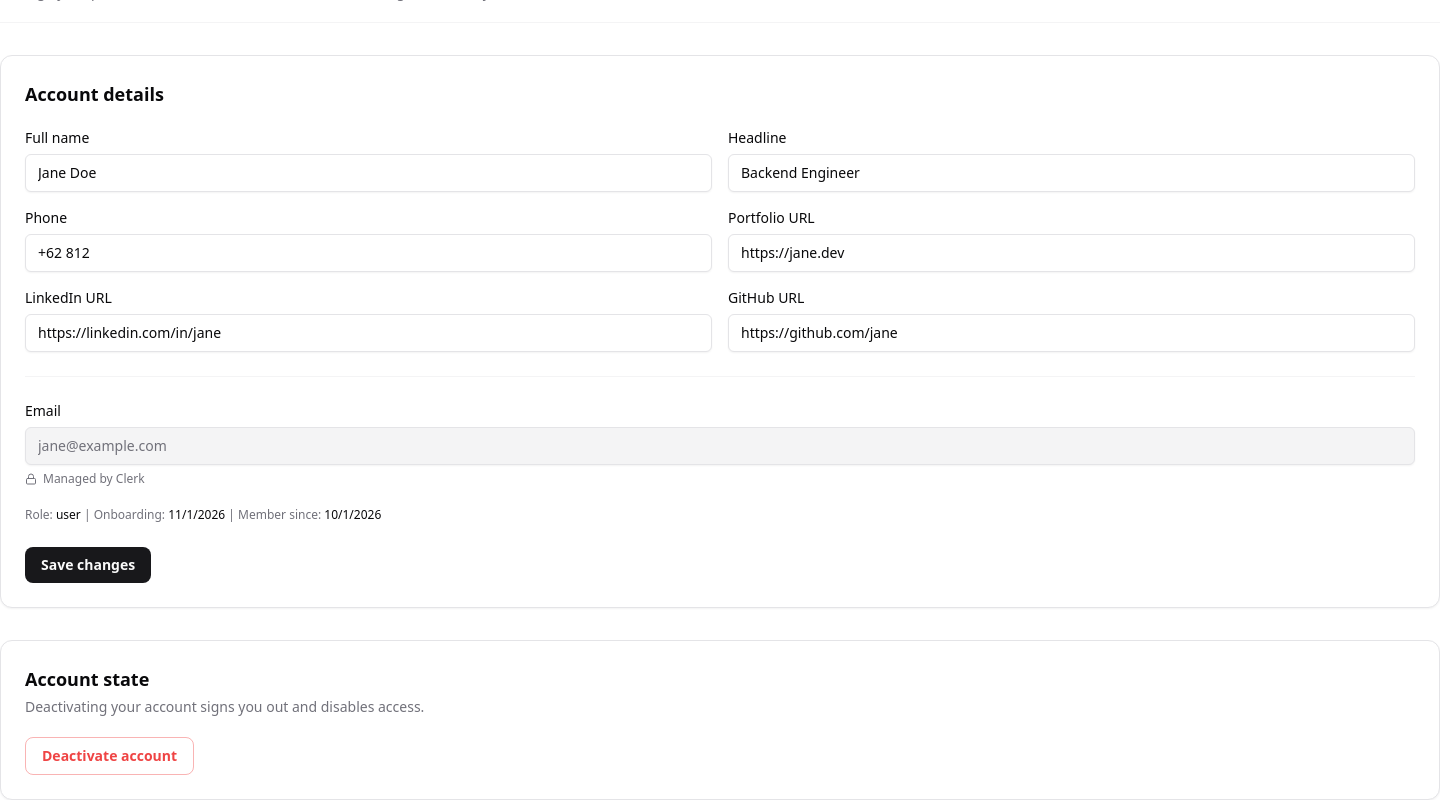
Test case: AccountForm › only deactivates on Confirm, not Cancel, and focuses Cancel on open
The image size is (1440, 800).
Later steps or results of the test are not shown.
(page scrolled)
Step 1. Click the button "Deactivate account" → click(110, 756), box [25,737,194,775]
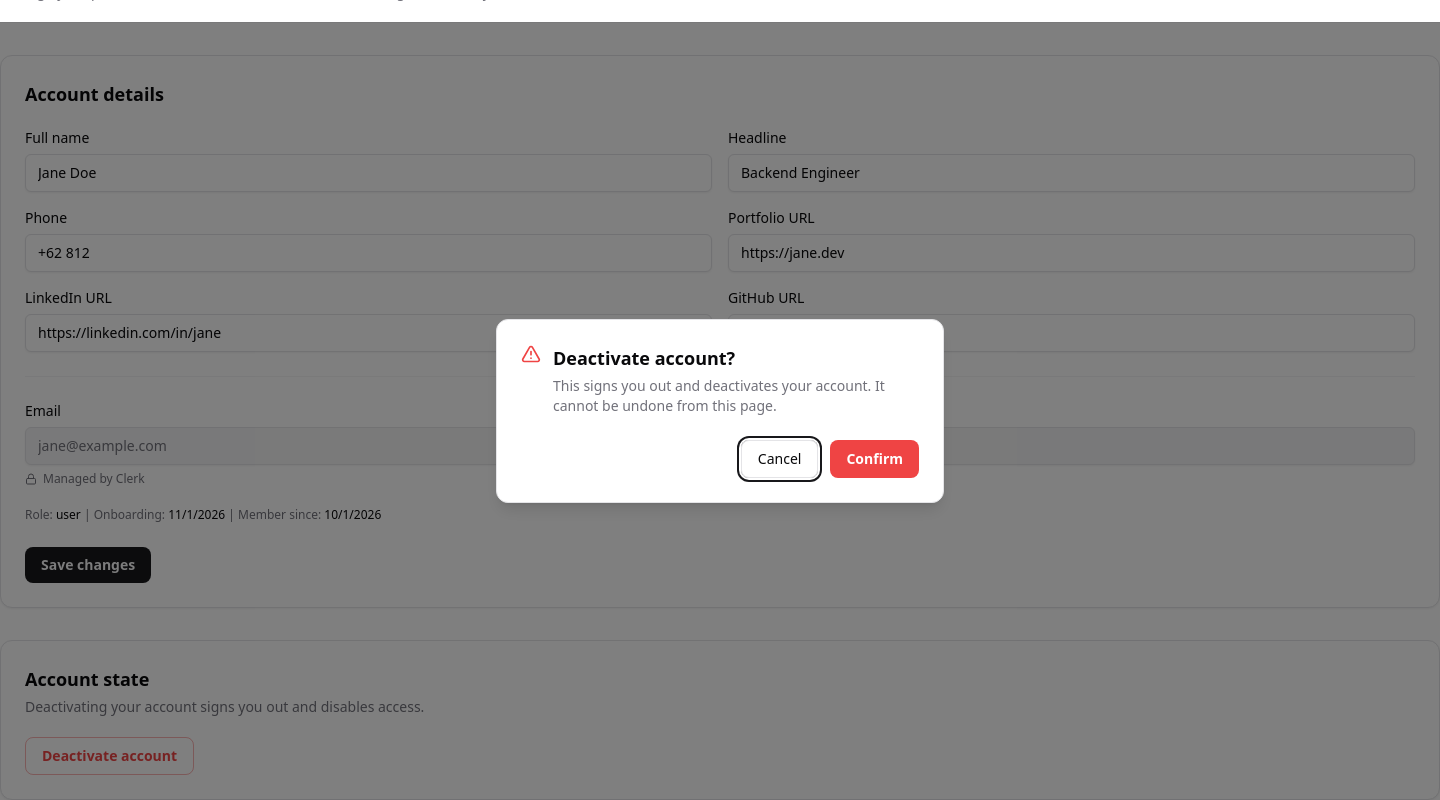
Step 2. Click the button "Cancel" → click(780, 459), box [741,440,818,478]
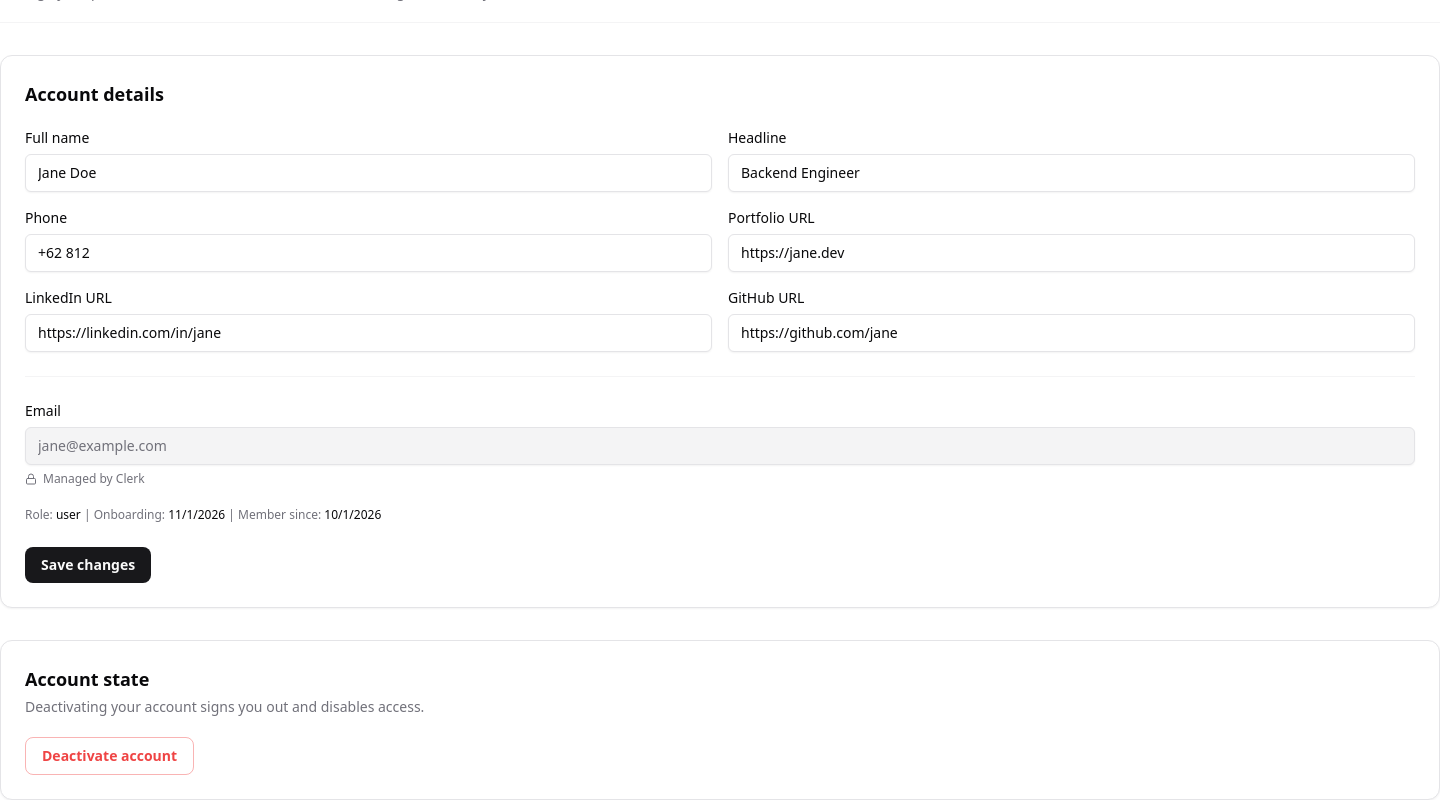
Check: the dialog is gone
